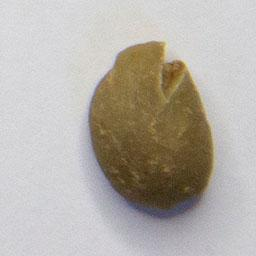premium: (84, 37, 218, 215)
